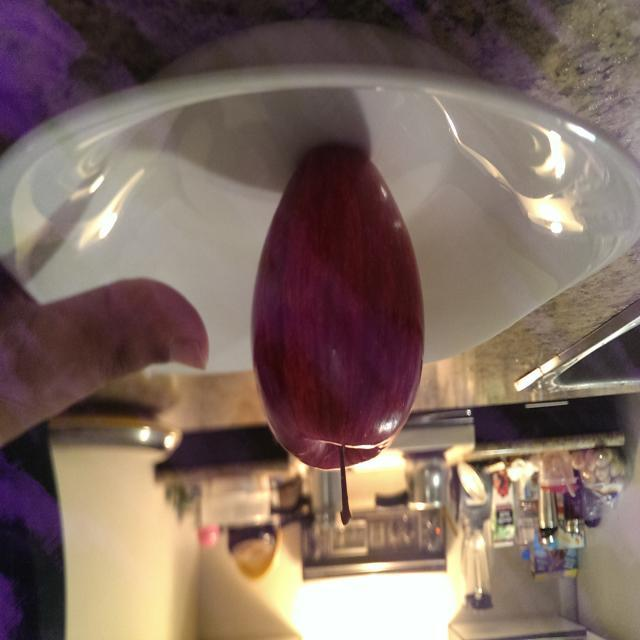Apple: (244, 140, 432, 536)
Finger: (97, 269, 213, 393)
